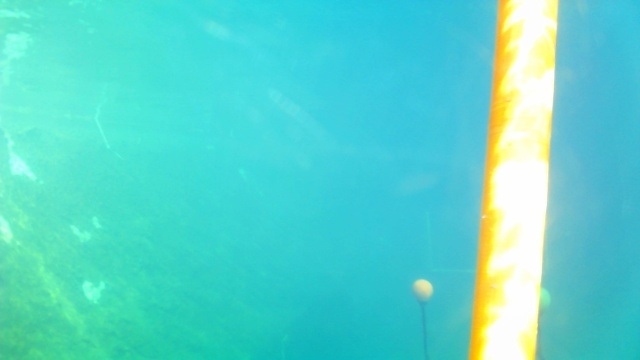buoy_red: (412, 278, 433, 305)
